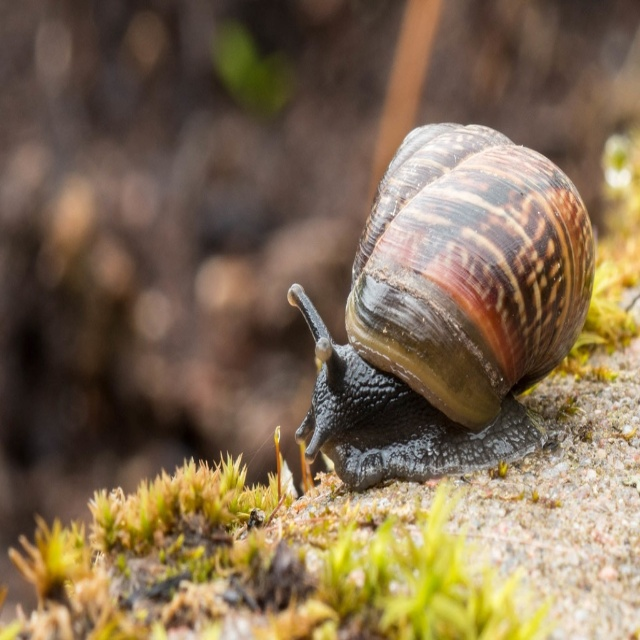Snail: (288, 122, 595, 494)
